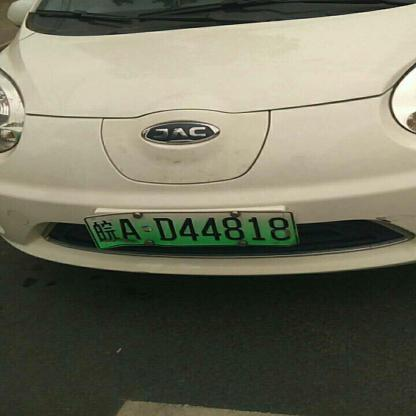lp: (84, 210, 298, 249)
